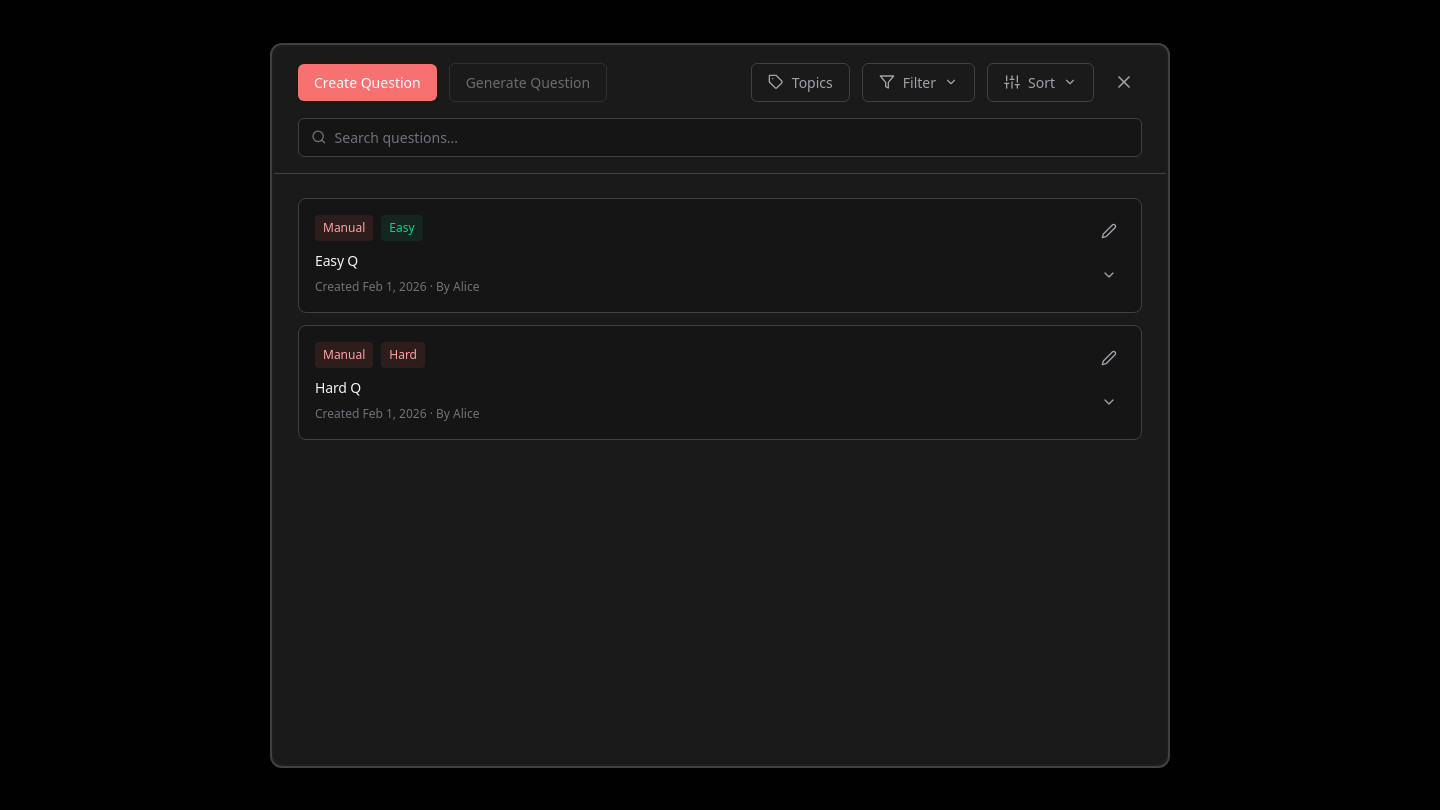
Scenario: ManageQuestionsModal › Filter dropdown: toggles, selects difficulty, filters results, and Clear resets filters
This screenshot has width=1440, height=810.
Click the button "Filter".
click(918, 82)  # box x1=862 y1=62 x2=975 y2=102
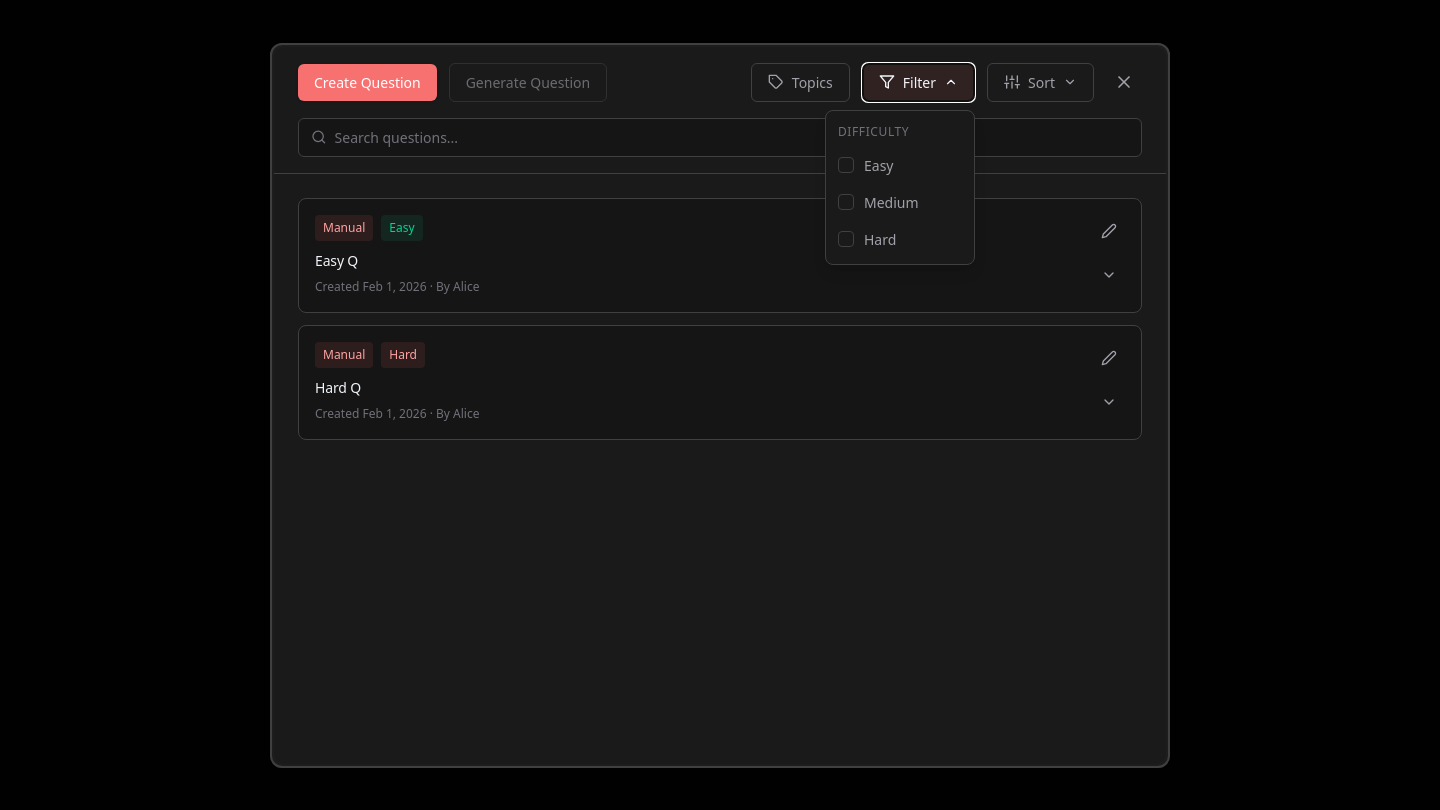
options use capitalization: Easy/Medium/Hard
Click the button "Hard".
click(900, 239)  # box x1=826 y1=220 x2=974 y2=258
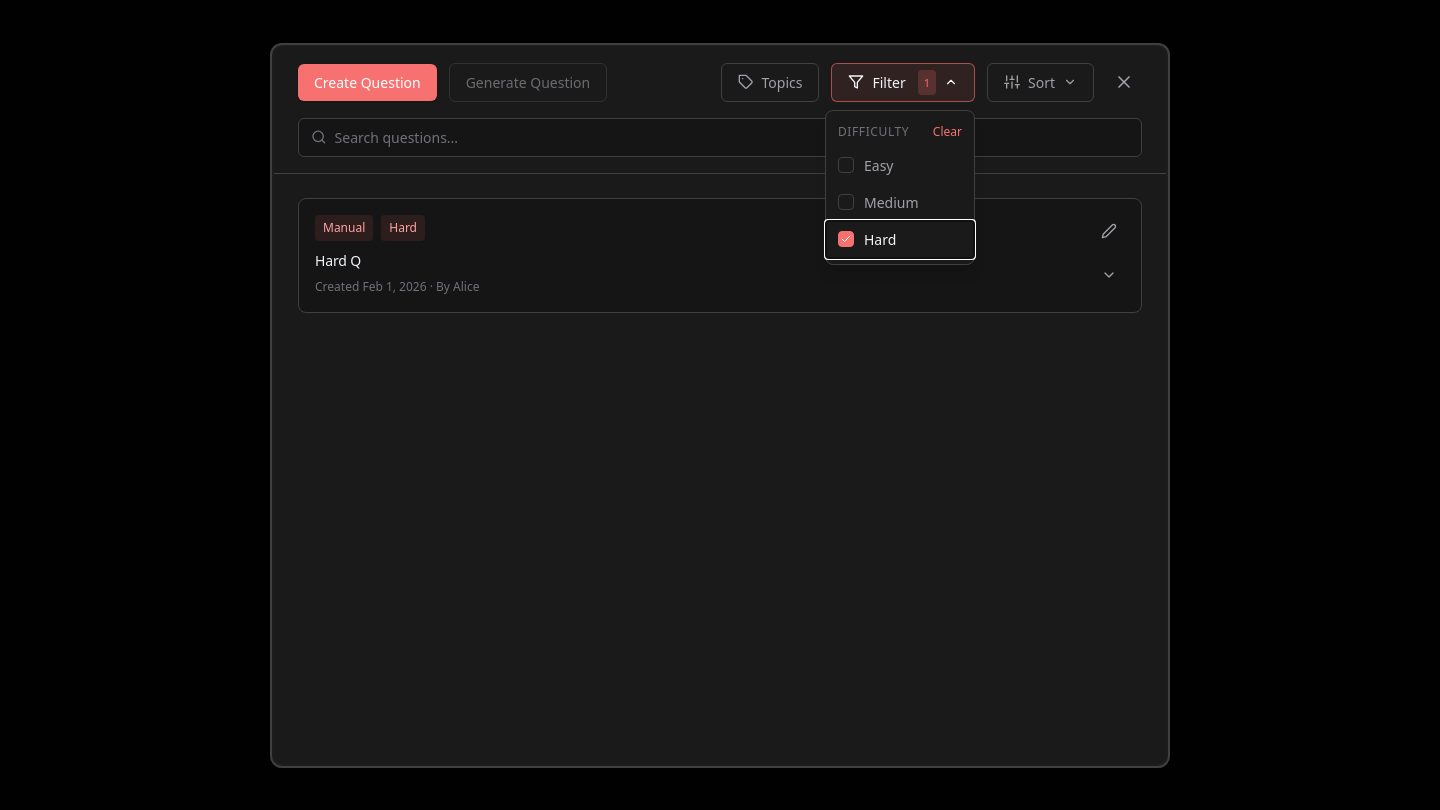
Expected: the text "1" is shown, x1=918 y1=70 x2=936 y2=94
Expected: the text "Easy Q" is gone
Clear filters
Click the button "Clear".
click(947, 132)  # box x1=933 y1=122 x2=962 y2=140
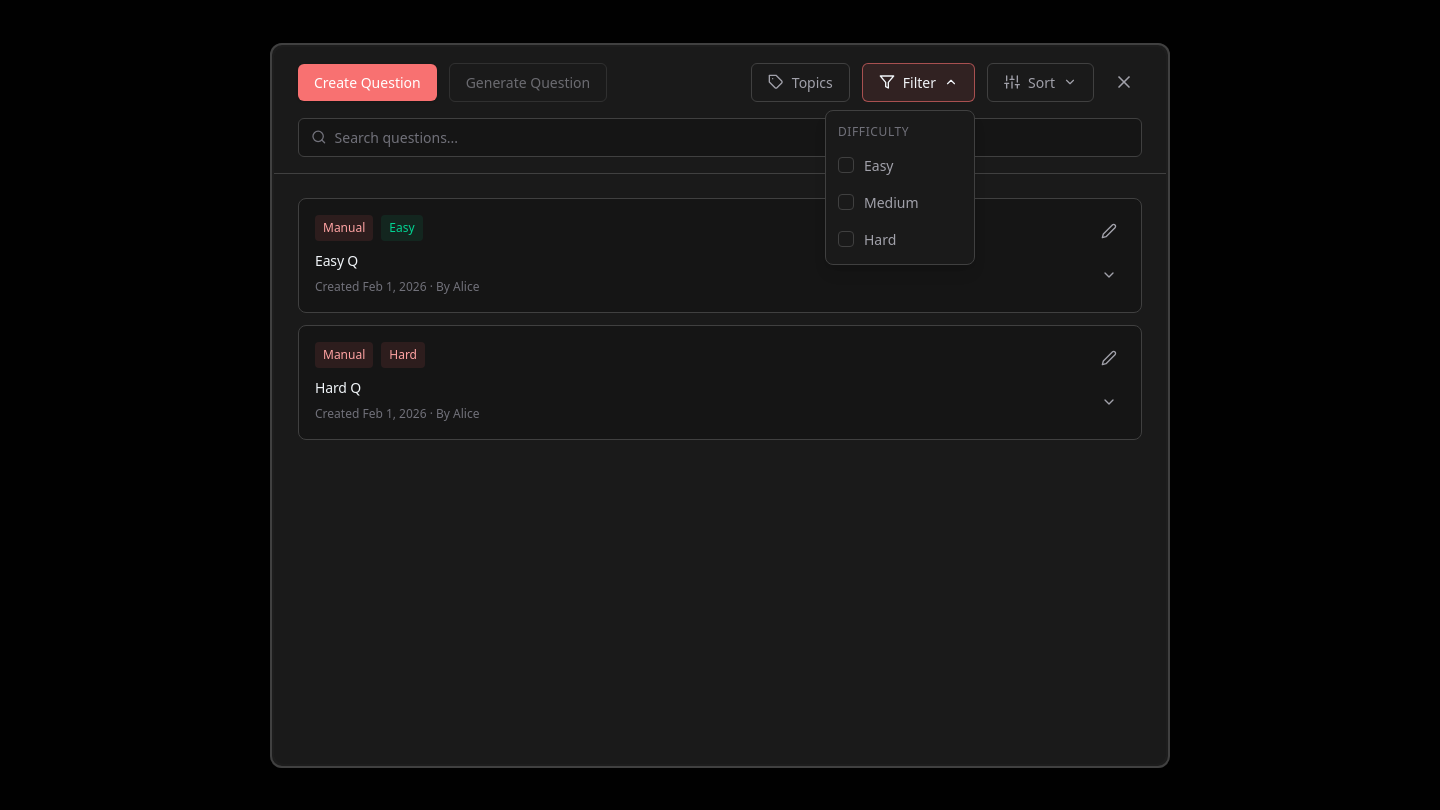
Expected: the text "Hard Q" is shown, x1=315 y1=378 x2=361 y2=396
Expected: the text "Easy Q" is shown, x1=315 y1=250 x2=358 y2=270
